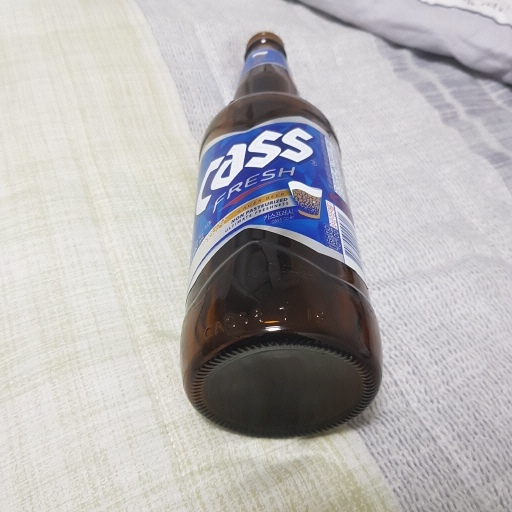Glass_1: (183, 28, 385, 438)
